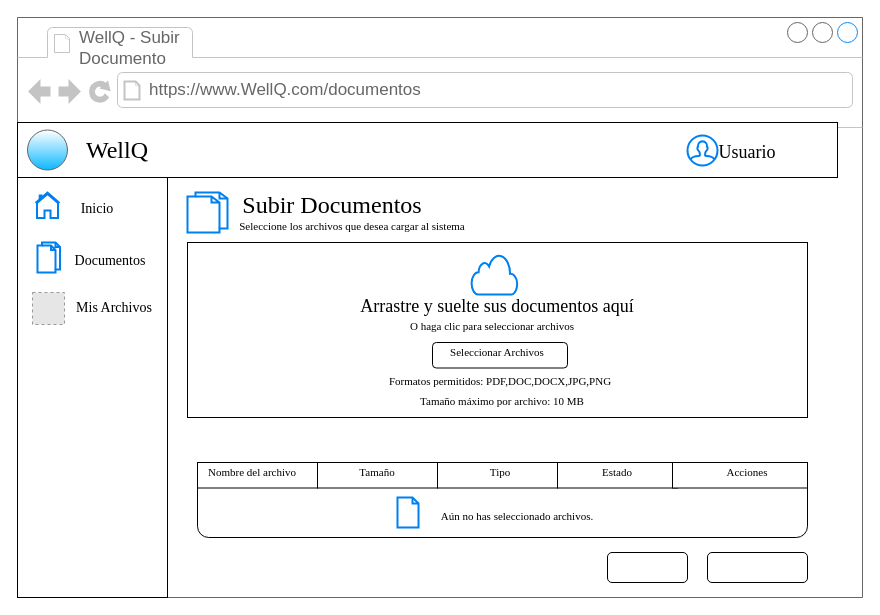
Image size: 880x615. Some labels were removed from this diagram. Grey dashed boxes stand in for pictures. Here are the shapes that lost their labels. From the top down, the box of each, then its label:
(16, 176, 168, 598): Archivos Seleccionados
(606, 552, 688, 582): Limpiar
(706, 552, 808, 582): Subir Documento
